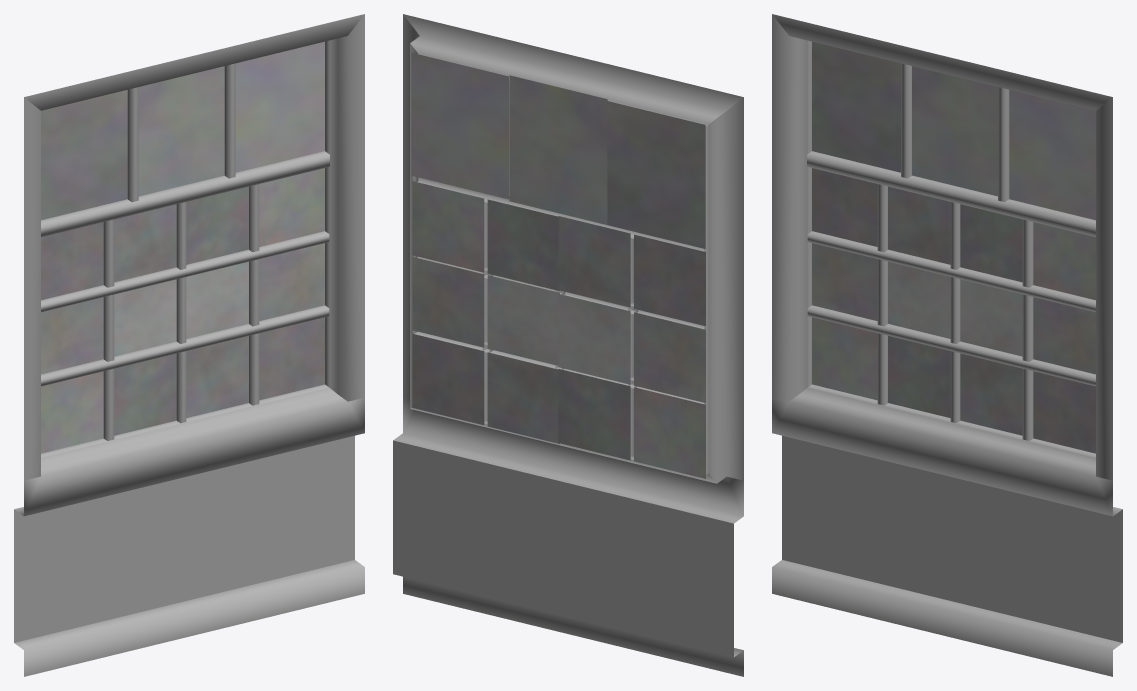
Rendered from Store_Wall_01.fbx.
The picture shows the model from 3 angles, left to right: view 1: azimuth 30°, elevation 25°; view 2: azimuth 150°, elevation 25°; view 3: azimuth 330°, elevation 25°; orthographic projection.
Visible parts, largest first — view 1: Store_Wall_01; view 2: Store_Wall_01; view 3: Store_Wall_01.
Boxes of the visible parts, x1,y1,x2,y2 form: Store_Wall_01: (14,14,364,676); Store_Wall_01: (393,14,743,676); Store_Wall_01: (772,14,1122,676).
Bounding box in the file's own units: 2 × 3.25 × 0.15.
